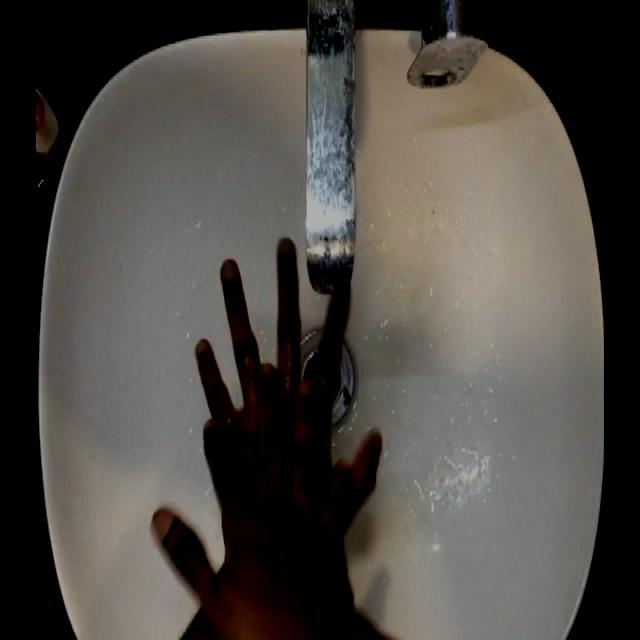step_2: (175, 228, 391, 538)
